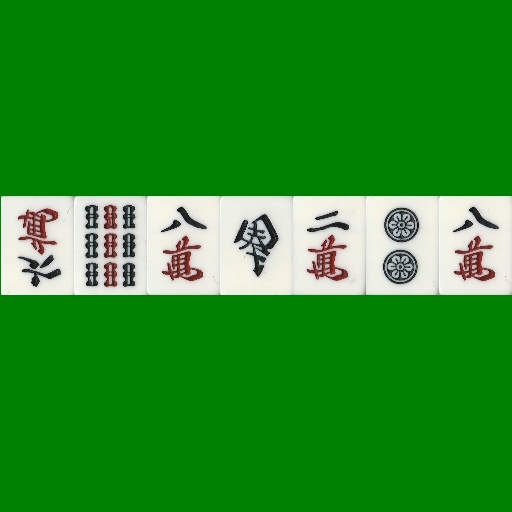2m: (293, 196, 366, 295)
2p: (366, 196, 439, 295)
6m: (1, 196, 74, 295)
8m: (147, 196, 220, 295), (439, 196, 512, 295)
9s: (74, 196, 147, 295)
south: (220, 196, 293, 295)
